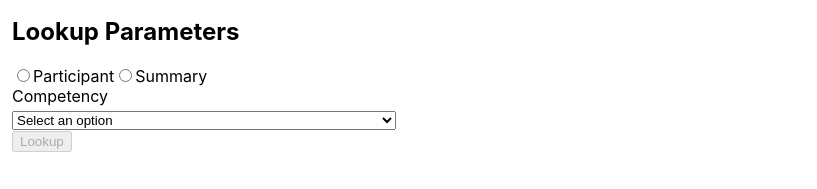
Test: Lookup › Summary results › Should render summary - average results
Expected: the heading "Lookup Parameters" is shown, [12,17,240,46]
Click the radio button labelled "Summary". click: (126, 75)
box: [119,69,132,82]
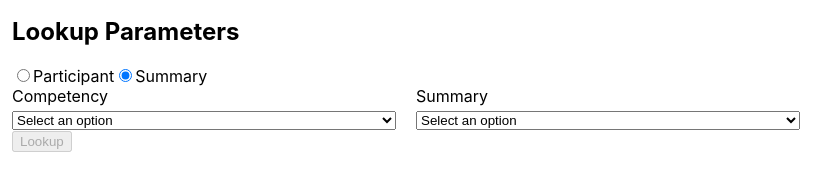
Expected: the heading "Lookup Parameters" is shown, [12,17,240,46]
Now the 2nd dropdown named "summary" is shown, box [416,111,800,130]
Select "Enthusiasm" in the dropdown named "competency" below "Competency". click: (204, 120)
box: [12,111,396,130]
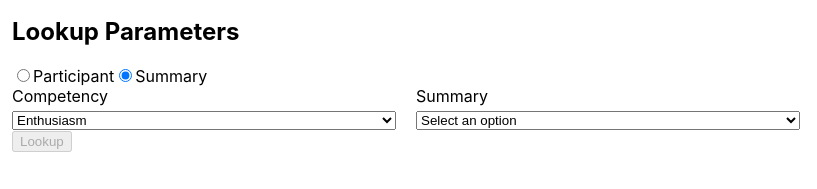
Select "Average" in the 2nd dropdown named "summary". click: (608, 120)
box: [416,111,800,130]
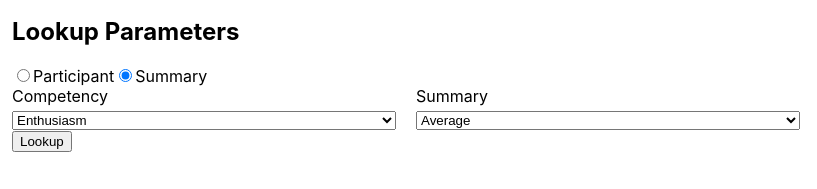
Now the submit button is enabled
Click the submit button. click: (42, 141)
box: [12,131,72,152]
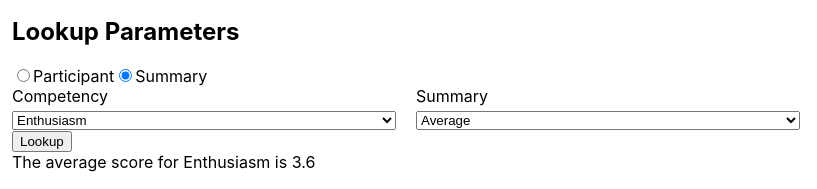
Now the text "The average score for Enthusiasm is 3.6" is shown, box [12,152,315,172]
